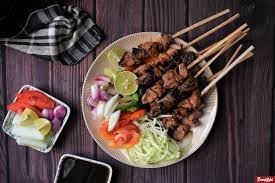sate: (94, 23, 228, 159)
